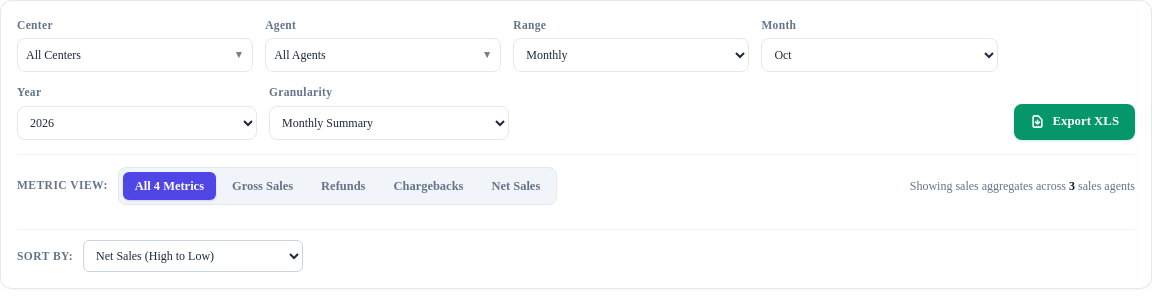
Scenario: W-4403: ReportFilterBar Component (Advance Performance Chart Style) › W-4802: Agent Filter Collapsible Accordions & Scroll Containment › expands Active Agents accordion when clicking toggle button
This screenshot has width=1152, height=306.
Step 1. Click the button with id "agent-select" → (383, 55), box x1=265 y1=38 x2=501 y2=72
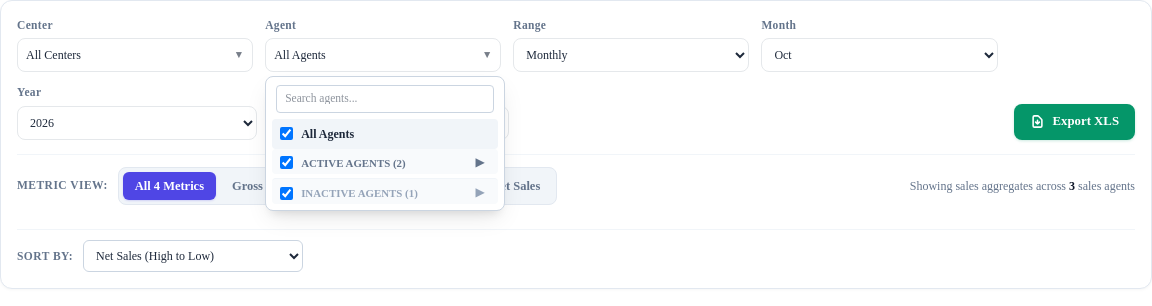
Step 2. Click the button named "toggle active agents accordion" → (480, 163), box x1=470 y1=155 x2=490 y2=170
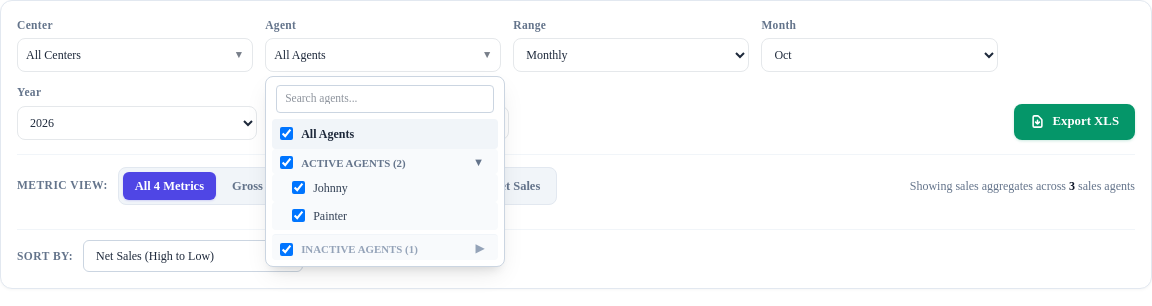
Expected: the text "Johnny" is shown, x1=313 y1=179 x2=348 y2=197
Expected: the text "Painter" is shown, x1=313 y1=207 x2=347 y2=225
